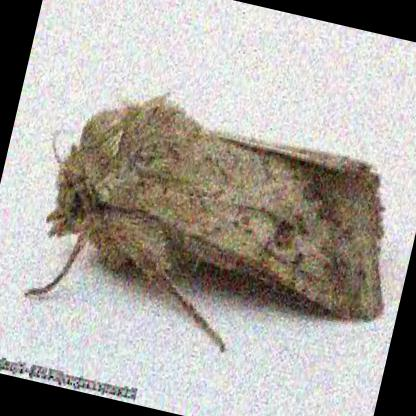helicoverpa: (28, 100, 384, 350)
